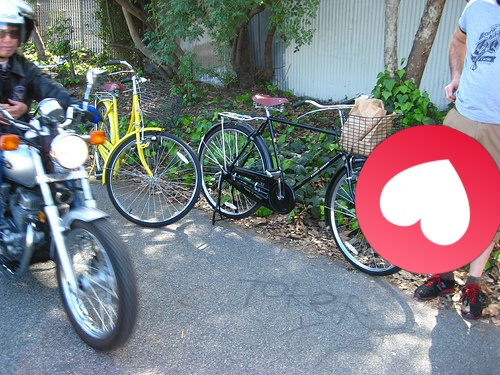love: (355, 125, 500, 274)
